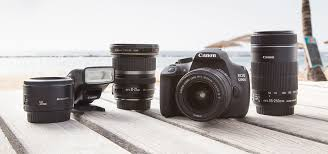camera: (160, 51, 248, 119)
